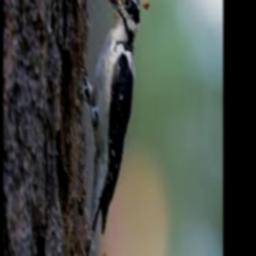Woodpecker: (81, 0, 149, 247)
